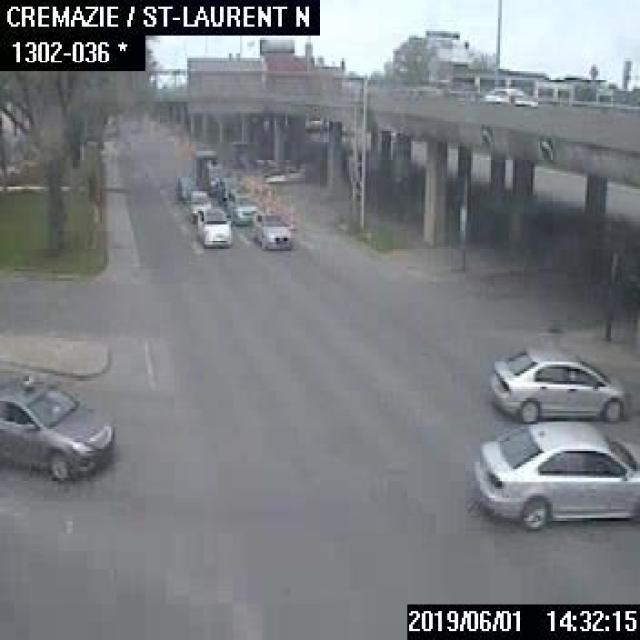construction: (285, 206, 293, 226)
vehicle: (471, 418, 638, 527), (0, 364, 115, 478), (488, 342, 631, 416), (193, 147, 229, 193), (194, 207, 232, 246), (252, 215, 293, 249), (224, 191, 264, 225), (482, 84, 533, 102), (187, 188, 211, 222), (214, 175, 240, 205), (174, 172, 198, 201)
